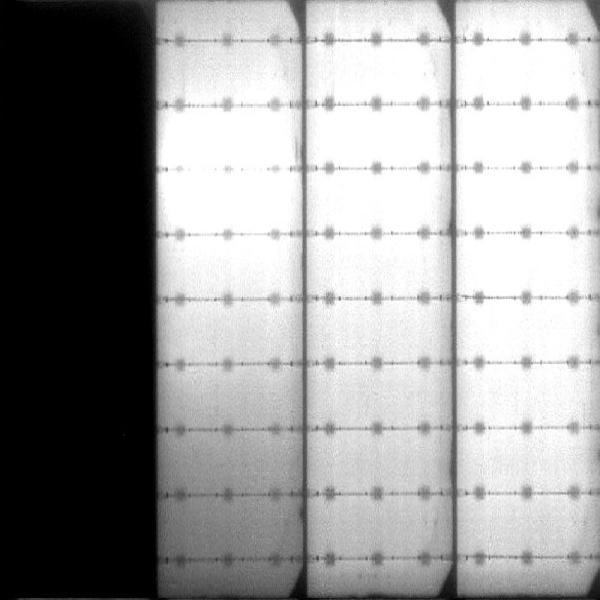hot_spot: (465, 173, 577, 226), (161, 120, 292, 164), (163, 176, 294, 219), (468, 240, 579, 286), (461, 51, 574, 96), (320, 118, 432, 161), (469, 114, 576, 159), (476, 308, 575, 354), (321, 179, 432, 213), (332, 52, 421, 93)
no_electricity: (1, 1, 153, 596)
